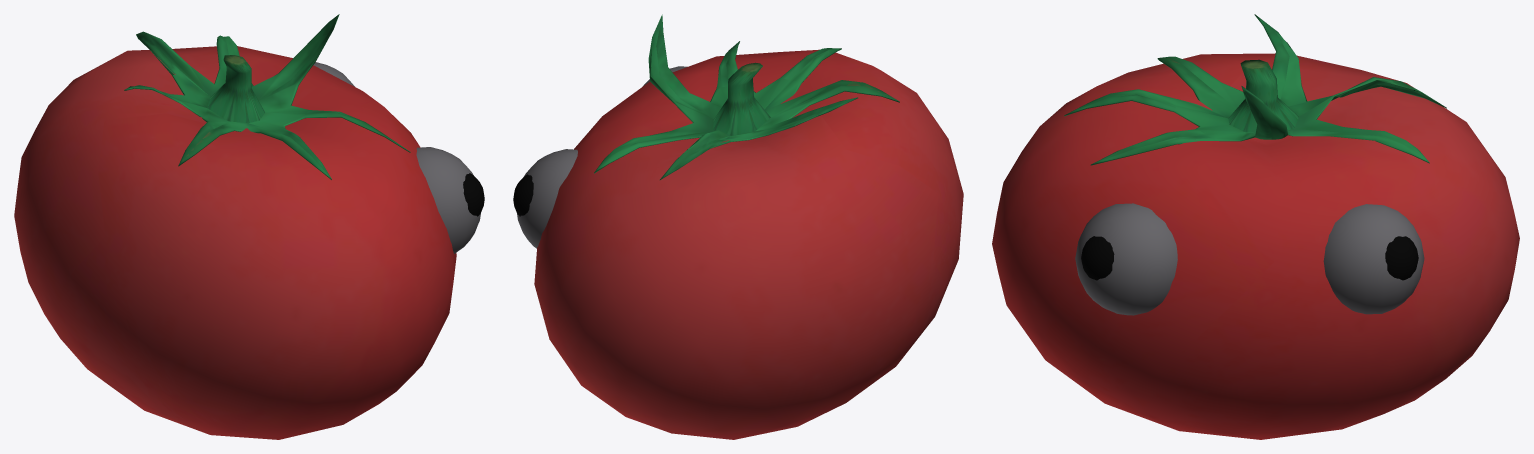
File: Tomato_Goon.obj
3 views of the same model, side by side, from view 1: azimuth 30°, elevation 25°; view 2: azimuth 150°, elevation 25°; view 3: azimuth 270°, elevation 25° (orthographic). The views are drawn at different scales.
Parts seen in each view (by area): view 1: Tomato1, Part2, Part4; view 2: Tomato1, Part1, Part3; view 3: Tomato1, Part2, Part1, Part3, Part4.
Part boxes in pixels (x1,y1,x2,y2): Tomato1: (14,14,456,439); Part2: (416,147,480,253); Part4: (463,173,484,216); Tomato1: (534,14,963,439); Part1: (517,149,577,248); Part3: (513,174,533,216); Tomato1: (992,14,1519,439); Part2: (1075,203,1177,315); Part1: (1323,204,1424,314); Part3: (1385,236,1418,280); Part4: (1081,236,1114,280).
Size of the model in its own units: 7.02 by 7.19 by 9.07.
